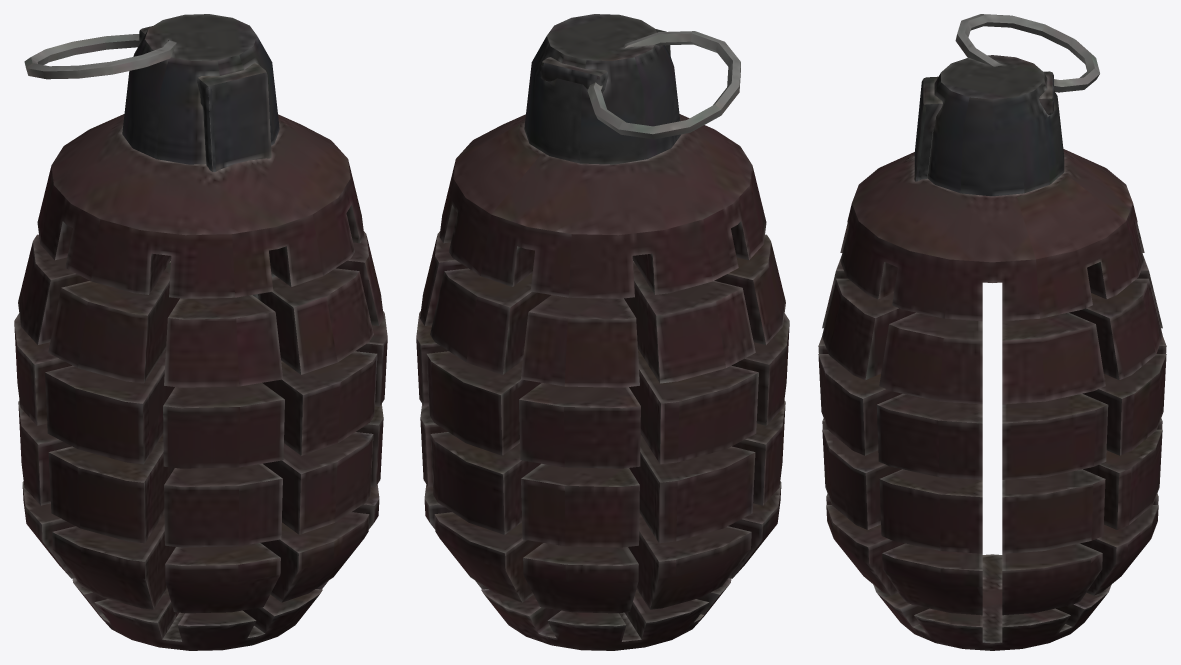
File: explorer_frag.glb
3 renders of one model, left to right at view 1: azimuth 30°, elevation 25°; view 2: azimuth 150°, elevation 25°; view 3: azimuth 270°, elevation 25°, orthographic. The views are drawn at different scales.
Parts seen in each view (by area): view 1: explorer_frag; view 2: explorer_frag; view 3: explorer_frag.
Boxes of the visible parts, x1=… form: explorer_frag: x1=14, y1=14, x2=387, y2=650; explorer_frag: x1=416, y1=14, x2=789, y2=650; explorer_frag: x1=818, y1=14, x2=1166, y2=650.
Size of the model in its own units: 0.0628 by 0.1121 by 0.0628.
1 material, 1 textured.
